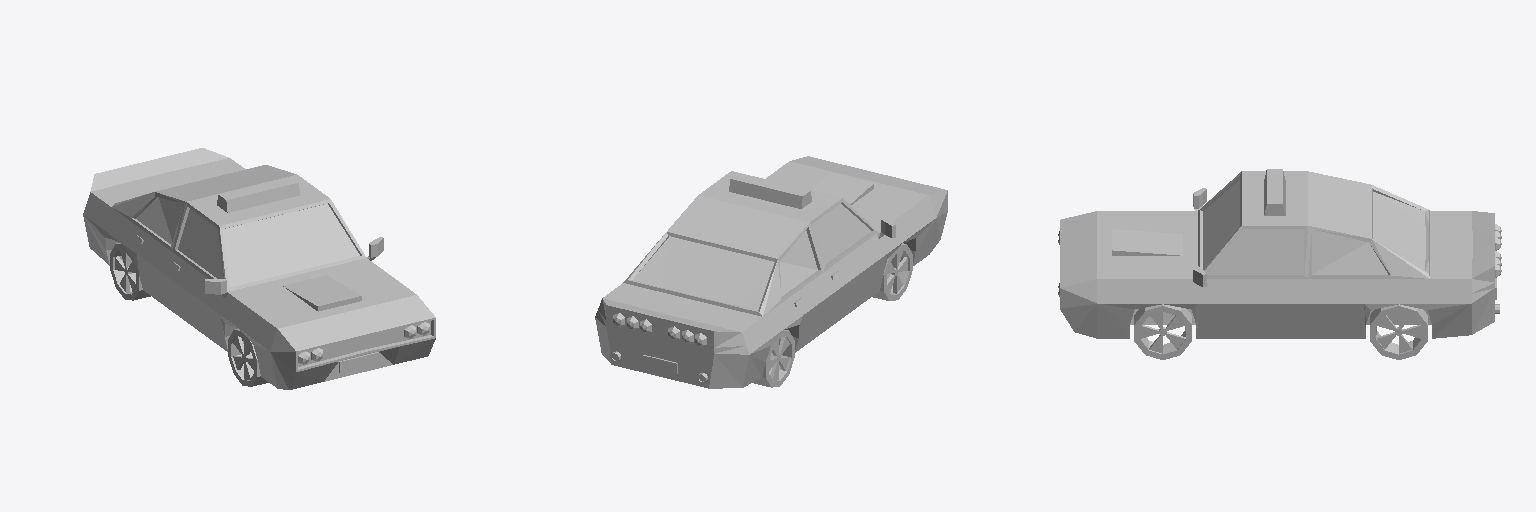
Rendered from police_muscle.obj.
3 renders of one model, left to right at view 1: azimuth 30°, elevation 25°; view 2: azimuth 150°, elevation 25°; view 3: azimuth 270°, elevation 25°, orthographic.
Parts seen in each view (by area): view 1: Police_Muscle; view 2: Police_Muscle; view 3: Police_Muscle.
Part boxes in pixels (left/top/right/bottom): Police_Muscle: left=83, top=148, right=435, bottom=389; Police_Muscle: left=595, top=156, right=947, bottom=388; Police_Muscle: left=1058, top=169, right=1501, bottom=359.
Size of the model in its own units: 2.81 by 2.09 by 6.06.